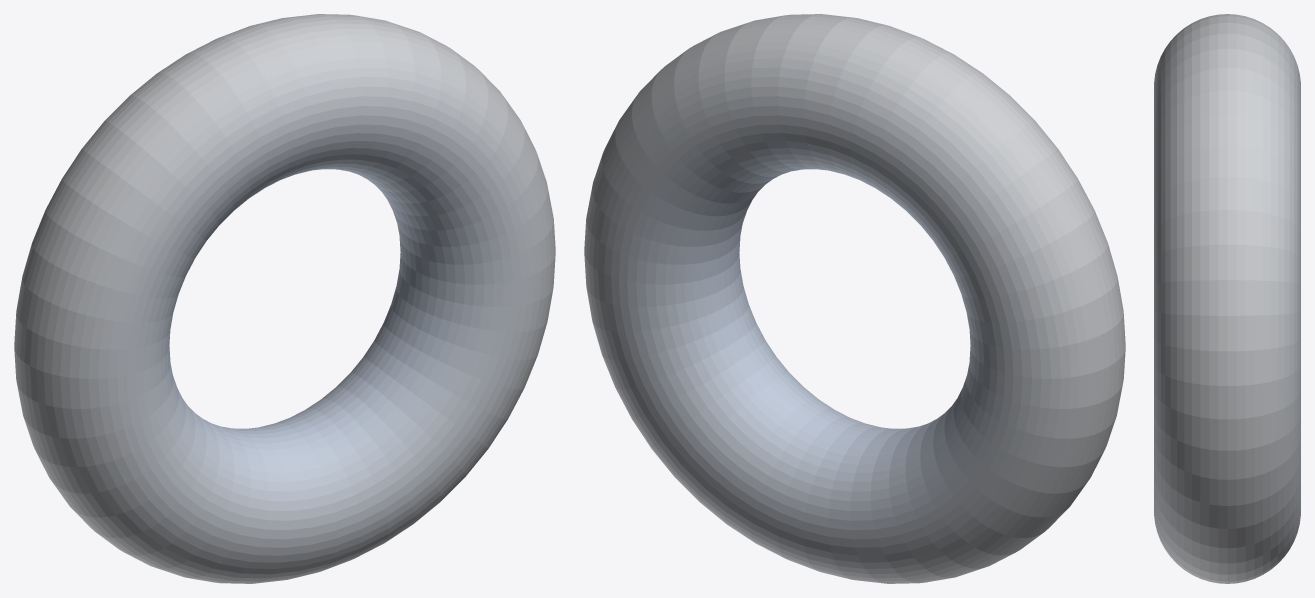
The picture shows the model from 3 angles, left to right: view 1: azimuth 30°, elevation 25°; view 2: azimuth 150°, elevation 25°; view 3: azimuth 270°, elevation 25°; orthographic projection. The views are drawn at different scales.
Parts seen in each view (by area): view 1: world; view 2: world; view 3: world.
Part boxes in pixels (left/top/right/bottom): world: left=14, top=14, right=555, bottom=583; world: left=584, top=14, right=1125, bottom=583; world: left=1154, top=14, right=1300, bottom=583.
Size of the model in its own units: 24.27 by 24.22 by 6.25.
